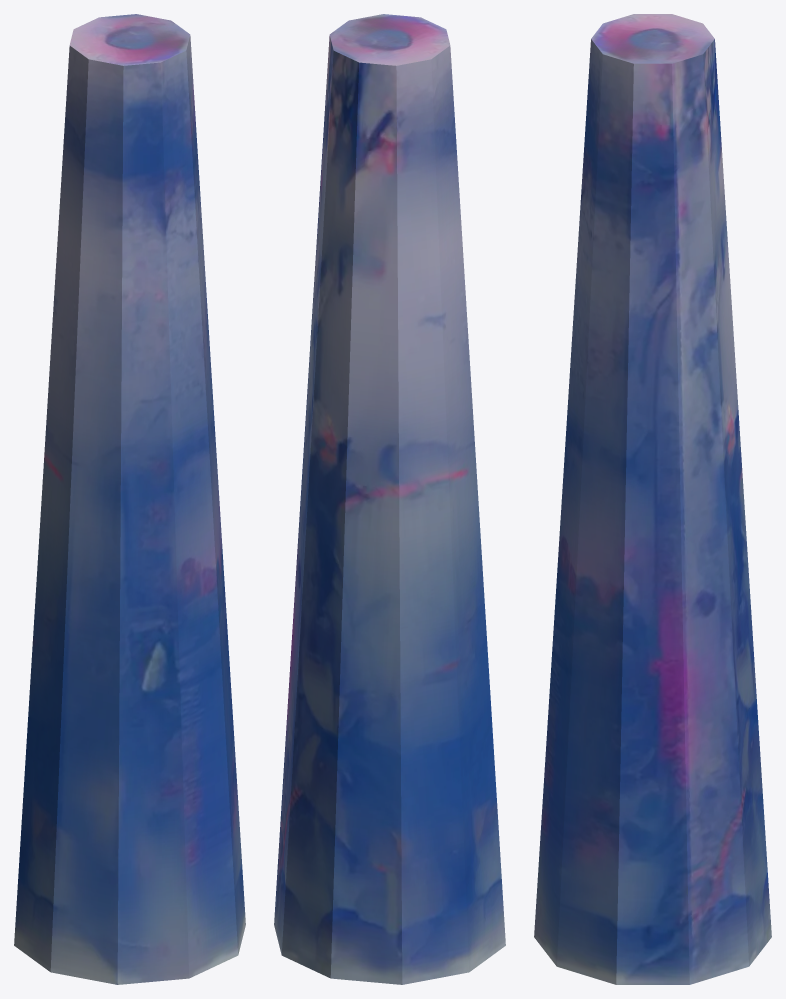
Rendered from tunnel-root-3-texture-wrap-2026-05-15T01-39-39-599Z.medium.glb.
The picture shows the model from 3 angles, left to right: view 1: azimuth 30°, elevation 25°; view 2: azimuth 150°, elevation 25°; view 3: azimuth 270°, elevation 25°; orthographic projection.
Parts seen in each view (by area): view 1: GLTF; view 2: GLTF; view 3: GLTF.
Boxes of the visible parts, x1=… form: GLTF: x1=14, y1=14, x2=245, y2=984; GLTF: x1=274, y1=14, x2=505, y2=984; GLTF: x1=534, y1=14, x2=771, y2=984.
Size of the model in its own units: 6.29 by 27.54 by 6.61.
Materials: 1 (1 with a texture image).
